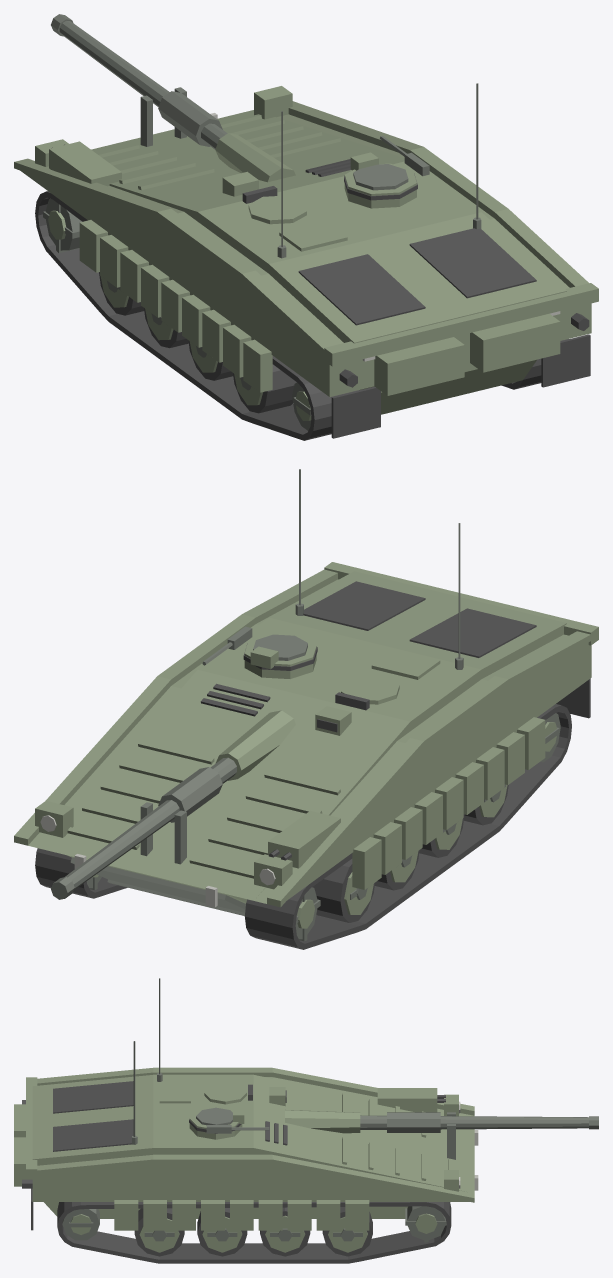
File: strvs.glb
3 views of the same model, one above another, from view 1: azimuth 30°, elevation 25°; view 2: azimuth 150°, elevation 25°; view 3: azimuth 270°, elevation 25° (orthographic). The views are drawn at different scales.
Visible parts, largest first — view 1: hull, gun, wheel_L_3, wheel_L_4, wheel_L_0, wheel_L_1, wheel_L_2, wheel_L_5; view 2: hull, gun, wheel_L_0, wheel_L_4, wheel_L_2, wheel_L_1, wheel_L_3; view 3: hull, gun, wheel_R_3, wheel_R_0, wheel_R_2, wheel_R_1, wheel_R_4, wheel_R_5.
Boxes of the visible parts, x1,y1,x2,y2 form: hull: (14,83,598,440); gun: (51,14,295,182); wheel_L_3: (233,364,296,413); wheel_L_4: (43,198,82,253); wheel_L_0: (99,272,144,315); wheel_L_1: (144,308,188,348); wheel_L_2: (188,340,233,380); wheel_L_5: (292,382,311,430); hull: (14,469,598,949); gun: (51,710,295,899); wheel_L_0: (312,859,375,922); wheel_L_4: (295,887,320,941); wheel_L_2: (419,814,464,857); wheel_L_1: (374,850,419,890); wheel_L_3: (464,784,508,825); hull: (14,978,478,1263); gun: (285,1109,598,1133); wheel_R_3: (134,1208,184,1256); wheel_R_0: (322,1207,372,1256); wheel_R_2: (197,1208,247,1256); wheel_R_1: (260,1207,310,1256); wheel_R_4: (405,1206,446,1242); wheel_R_5: (62,1209,99,1240).
Bounding box in the file's own units: 3.7 × 3.7 × 9.32.
